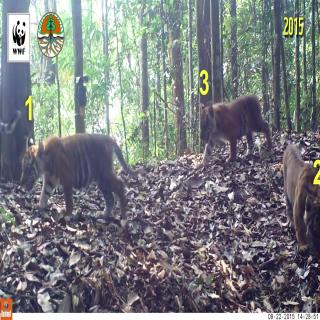Tiger: (16, 124, 135, 226), (192, 92, 276, 164)
